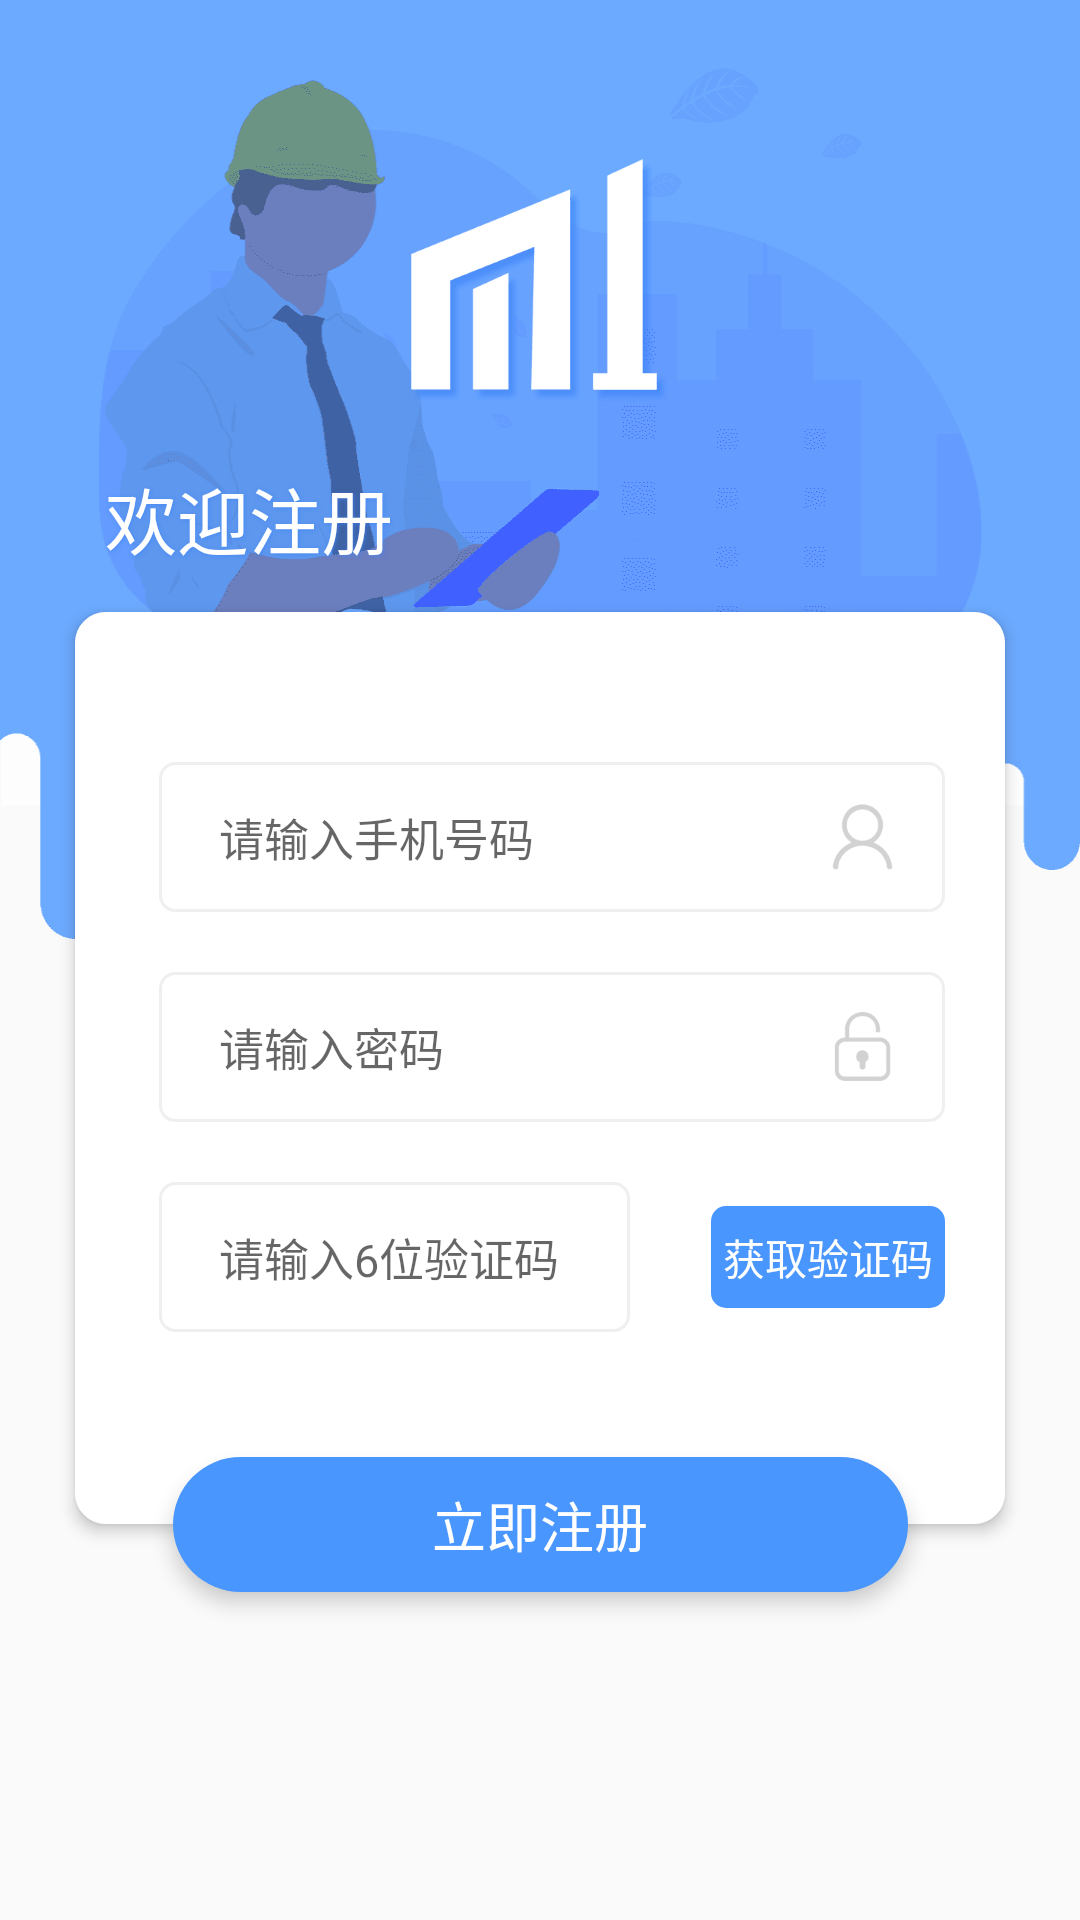

Icon bounding boxes for this 1080x1920 phone screenshot, format (x1, y1, x2, y2):
login account: (833, 804, 892, 869)
login secreat: (835, 1012, 890, 1081)
